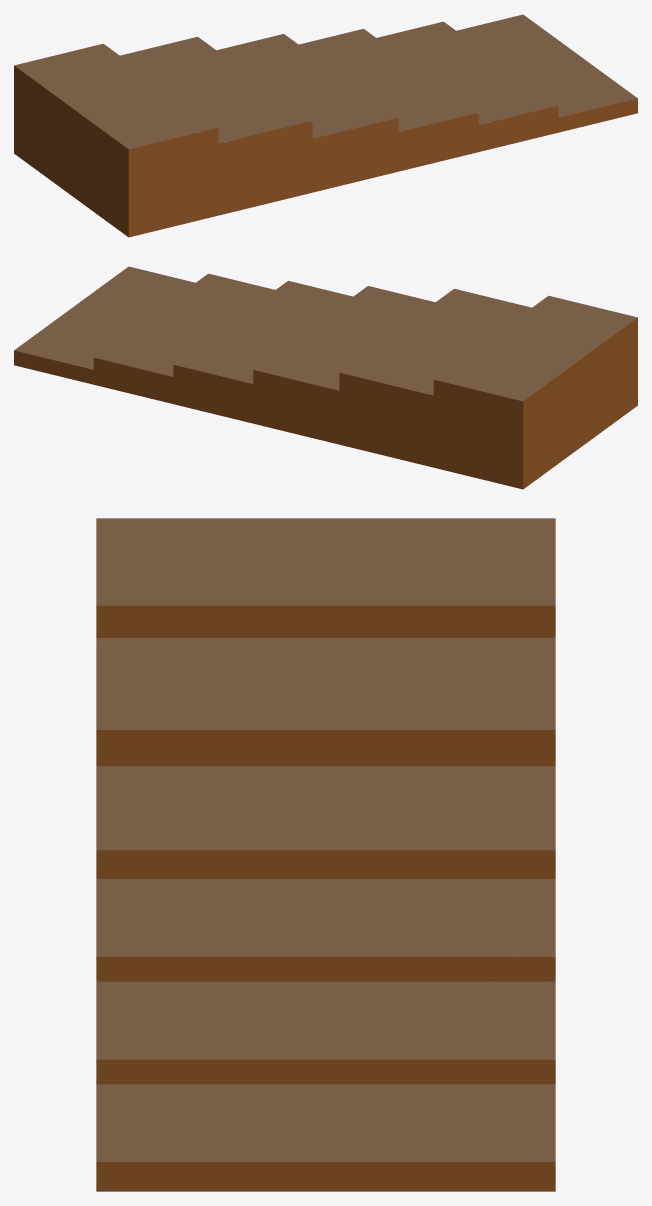
File: stair_mult.fbx
The picture shows the model from 3 angles, top to bottom: view 1: azimuth 30°, elevation 25°; view 2: azimuth 150°, elevation 25°; view 3: azimuth 270°, elevation 25°; orthographic projection. The views are drawn at different scales.
Visible parts, largest first — view 1: pCube1; view 2: pCube1; view 3: pCube1.
Boxes of the visible parts, box(x1,y1,x2,y2) form: pCube1: box(14, 14, 637, 237); pCube1: box(14, 266, 637, 489); pCube1: box(96, 518, 555, 1191).
Bounding box in the file's own units: 13.13 × 2.17 × 5.13.
